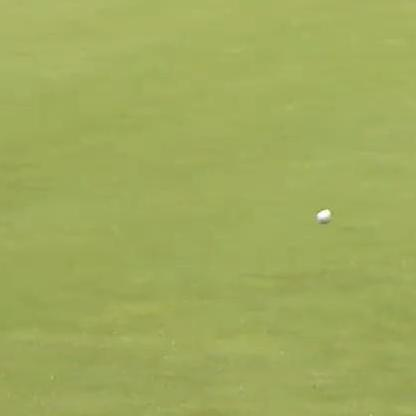golfball: (314, 206, 329, 222)
